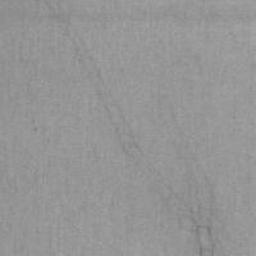Water spot: (36, 0, 218, 256)
